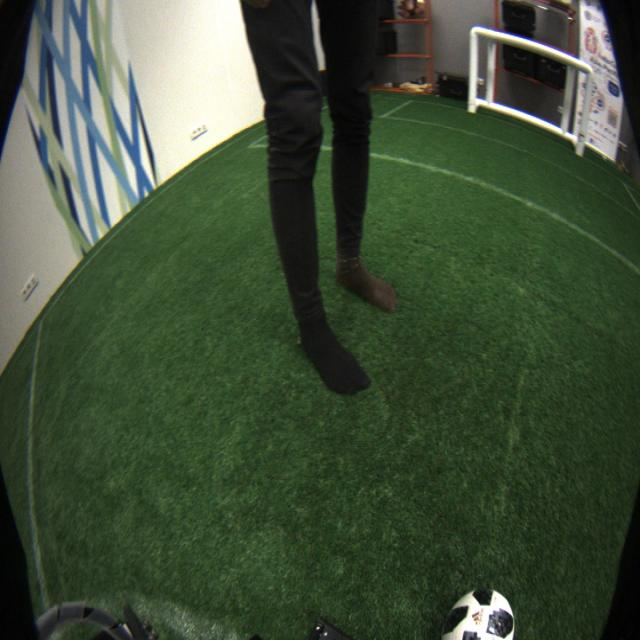ball: (438, 586, 516, 640)
goalpost: (574, 65, 598, 160), (466, 27, 480, 116)
